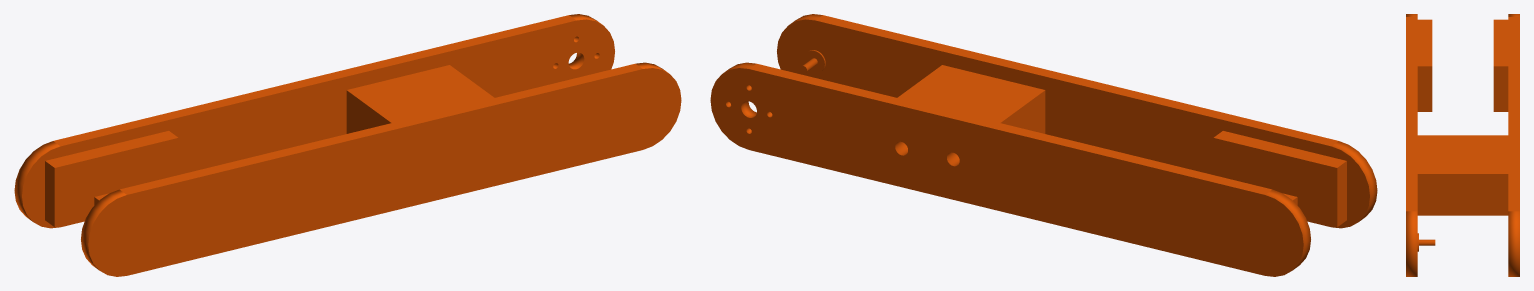
File: tarot_t650_gripper_mecha_mount_stretcher.dae
The picture shows the model from 3 angles, left to right: view 1: azimuth 30°, elevation 25°; view 2: azimuth 150°, elevation 25°; view 3: azimuth 270°, elevation 25°; orthographic projection. The views are drawn at different scales.
Parts seen in each view (by area): view 1: tarot_t650_green_gripper v1; view 2: tarot_t650_green_gripper v1; view 3: tarot_t650_green_gripper v1.
Part boxes in pixels (x1,y1,x2,y2): tarot_t650_green_gripper v1: (14, 14, 681, 276); tarot_t650_green_gripper v1: (710, 14, 1377, 276); tarot_t650_green_gripper v1: (1406, 14, 1519, 276).
Bounding box in the file's own units: 230 × 49.55 × 30.
